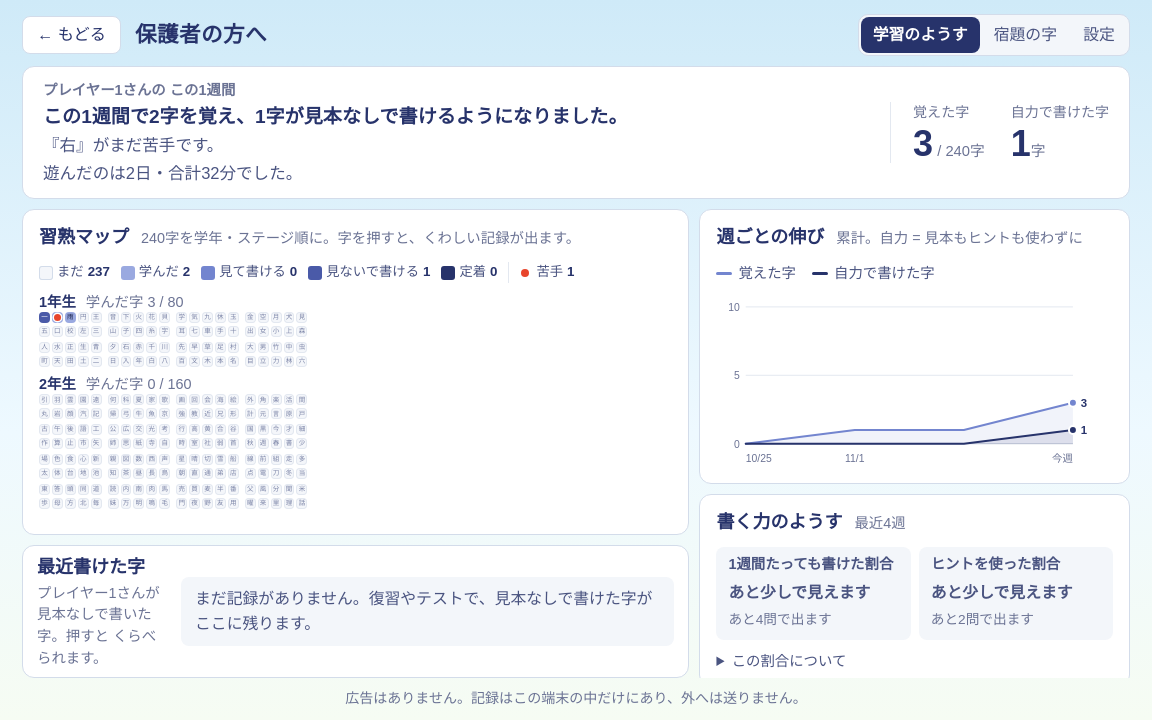
Test case: 保護者の画面: 学習のようす › 字を押すと くわしい記録が出て、「この字を練習する」で その字を開く
The image size is (1152, 720).
Click the button "右" at (57, 318), box [52,312,63,323]
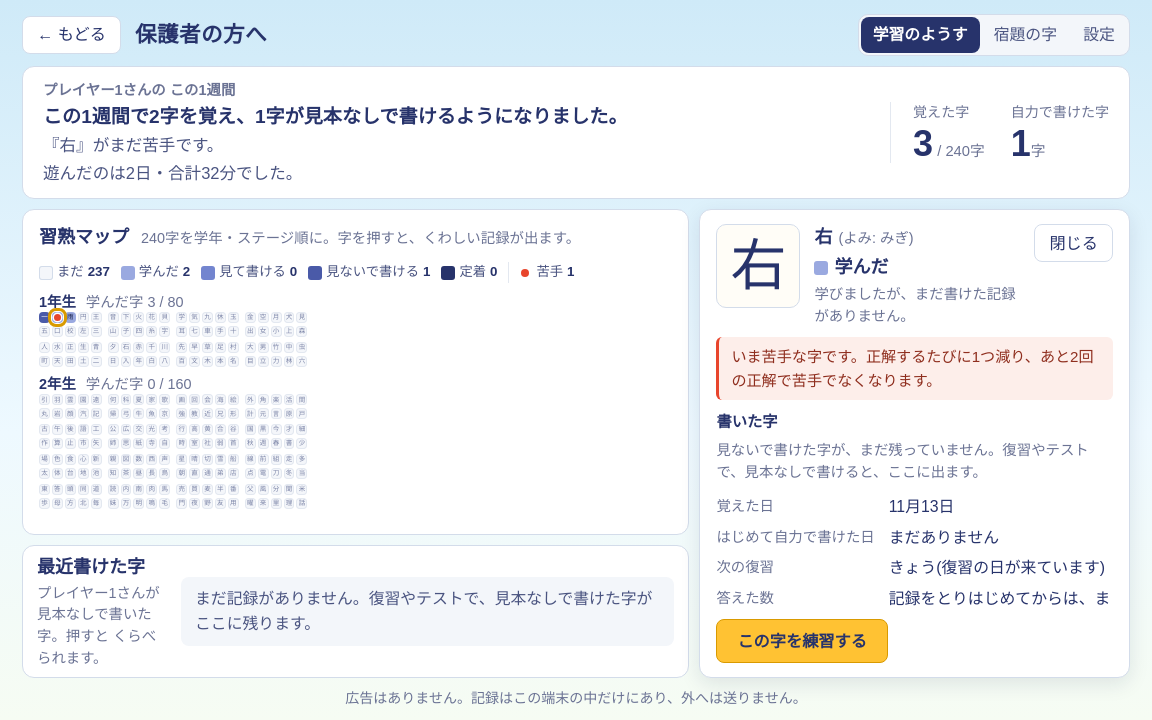
Expected: the heading "週ごとの伸び" is gone
Click the button "この字を練習する" at (802, 641), box [716,619,888,663]
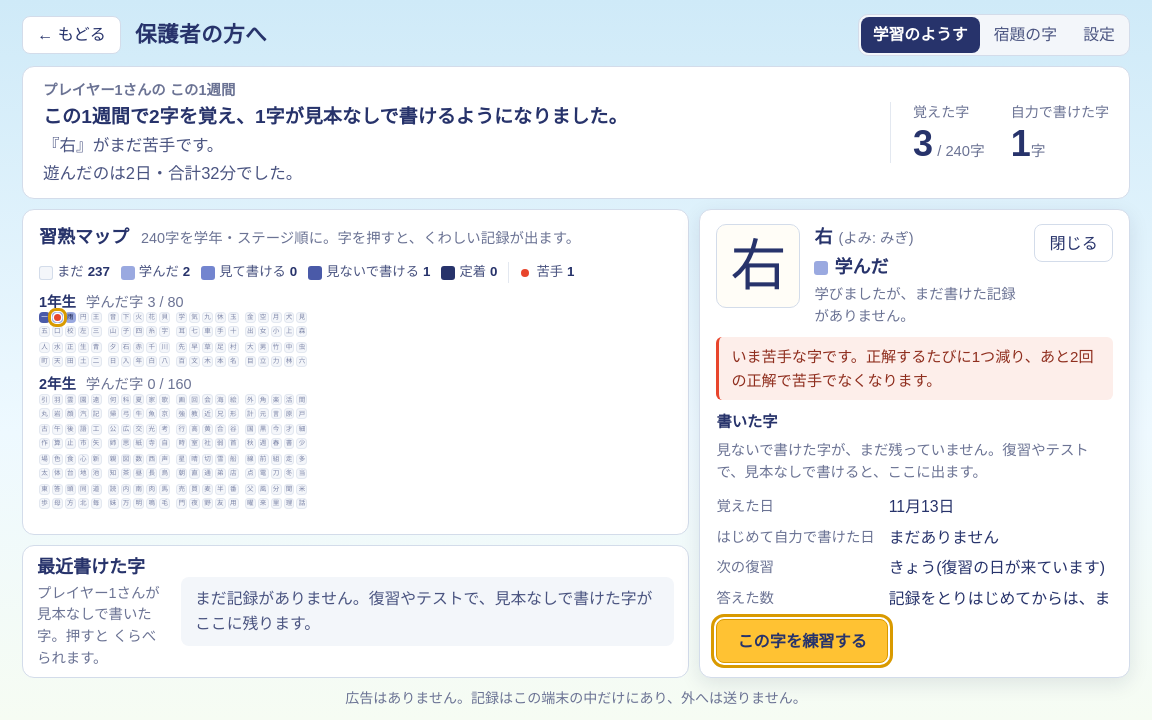
Click the button "閉じる" at (1074, 243), box [1034,224,1113,262]
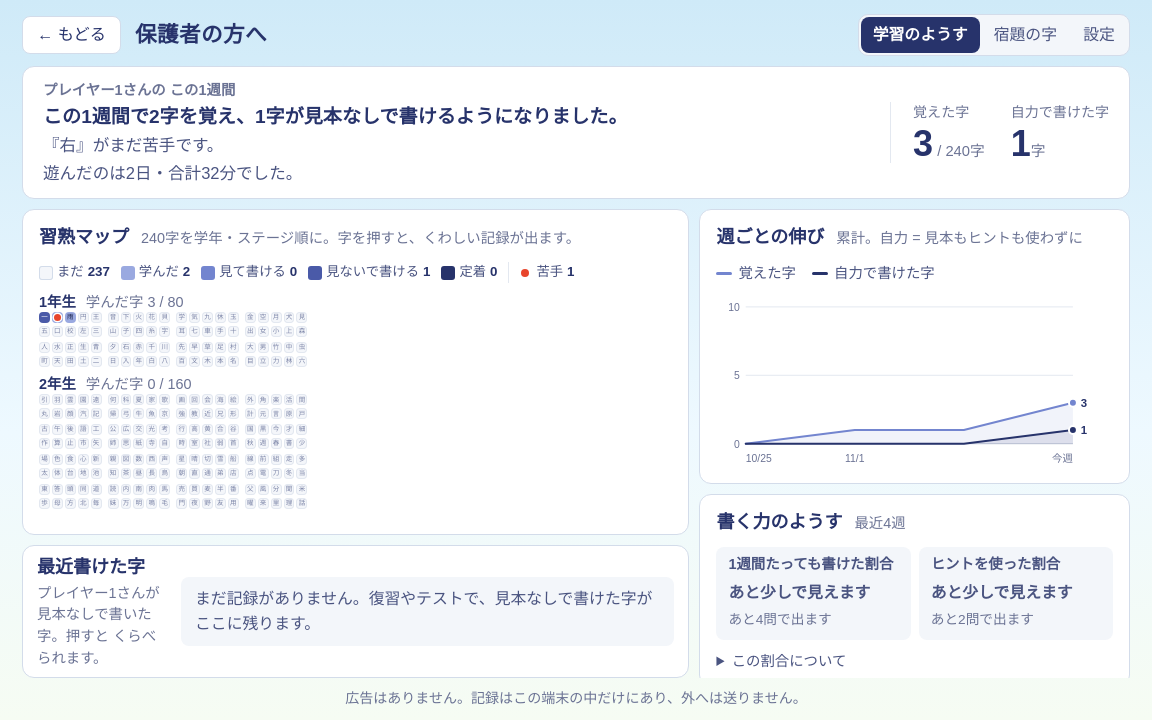
Expected: the element "週ごとの伸び" is shown, [699,209,1130,484]
